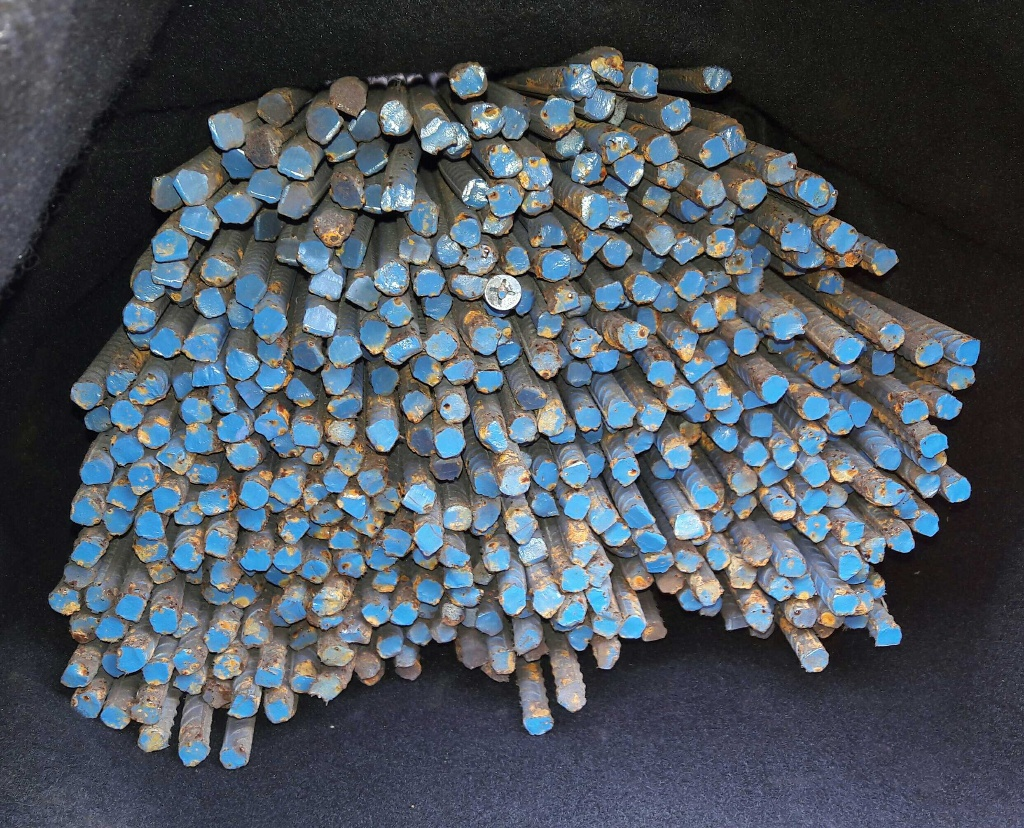dipstick: (421, 117, 458, 155), (314, 212, 353, 247), (307, 105, 341, 145), (329, 79, 365, 115), (180, 205, 217, 240), (209, 113, 244, 149), (469, 103, 505, 138), (450, 63, 487, 97), (174, 169, 208, 205), (245, 128, 276, 167), (254, 309, 288, 344), (279, 146, 313, 180), (248, 168, 282, 202), (346, 276, 380, 310), (151, 230, 188, 261), (386, 335, 423, 366), (258, 93, 292, 126), (234, 275, 267, 309), (303, 305, 336, 339), (374, 262, 408, 295), (519, 156, 552, 190), (327, 335, 362, 367), (309, 269, 342, 302), (278, 185, 312, 217), (541, 98, 575, 130), (489, 144, 523, 176), (381, 101, 412, 135), (330, 178, 364, 209), (572, 152, 606, 183), (603, 132, 637, 163), (200, 258, 237, 286), (211, 560, 243, 592), (584, 88, 616, 120), (298, 240, 329, 273), (489, 185, 522, 216), (646, 134, 679, 165), (565, 65, 596, 98), (462, 245, 496, 275), (360, 319, 389, 354), (255, 360, 287, 391), (151, 176, 181, 209), (109, 400, 142, 430), (614, 153, 644, 186), (591, 56, 624, 86), (130, 376, 164, 405), (581, 194, 610, 228), (109, 435, 144, 463), (183, 335, 219, 362), (366, 420, 397, 451), (533, 587, 564, 618), (697, 174, 727, 206), (767, 153, 797, 185), (827, 222, 857, 254), (404, 485, 437, 514), (410, 202, 439, 235), (217, 195, 251, 223), (77, 458, 113, 484), (400, 235, 431, 265), (699, 137, 730, 167), (221, 150, 253, 179), (134, 269, 163, 301), (226, 351, 258, 380), (415, 524, 444, 556), (349, 111, 381, 140), (508, 512, 537, 544), (662, 98, 691, 130), (137, 421, 170, 449), (382, 184, 415, 212), (671, 236, 704, 264), (312, 588, 346, 615), (198, 488, 233, 514), (149, 328, 179, 358), (293, 340, 323, 370), (413, 356, 443, 386), (569, 327, 599, 357), (870, 480, 906, 505), (194, 288, 225, 317), (403, 391, 432, 422), (426, 332, 457, 361), (254, 209, 282, 241), (123, 302, 155, 330), (217, 414, 249, 442), (70, 540, 102, 568), (501, 107, 529, 139), (320, 366, 353, 393), (226, 443, 260, 469), (452, 274, 487, 299), (287, 376, 316, 406), (184, 422, 214, 451), (440, 394, 470, 423), (500, 465, 530, 494), (707, 228, 736, 258), (781, 223, 811, 252), (71, 498, 102, 526), (435, 429, 466, 457), (522, 186, 553, 214), (630, 65, 658, 96), (380, 299, 412, 326), (773, 312, 805, 339), (152, 263, 186, 288), (595, 281, 624, 310), (676, 271, 705, 300), (737, 179, 766, 208), (128, 465, 156, 495), (408, 427, 436, 457), (423, 293, 453, 321), (447, 123, 471, 158), (531, 351, 561, 379), (472, 502, 500, 532), (518, 538, 548, 566), (648, 225, 676, 255), (355, 147, 386, 174), (339, 620, 373, 644), (335, 446, 363, 475), (370, 366, 398, 395), (239, 480, 268, 508), (337, 490, 365, 519), (541, 251, 569, 280), (631, 275, 660, 303), (642, 186, 670, 215), (136, 512, 166, 539), (691, 302, 718, 332), (339, 236, 365, 267), (234, 381, 265, 407), (64, 563, 95, 589), (72, 692, 103, 718), (180, 740, 211, 766), (414, 270, 445, 296), (192, 363, 227, 386), (134, 538, 167, 562), (152, 484, 180, 512), (273, 476, 301, 504), (618, 322, 646, 350), (172, 544, 201, 571), (205, 530, 234, 557), (115, 595, 144, 622), (151, 607, 180, 634), (382, 530, 411, 557), (799, 178, 828, 205), (811, 361, 840, 388), (256, 413, 286, 439), (683, 358, 713, 384), (437, 236, 462, 267), (367, 546, 399, 570), (328, 395, 360, 419), (548, 290, 580, 314), (104, 507, 132, 534), (581, 234, 609, 261), (612, 458, 639, 486), (761, 376, 789, 403), (800, 429, 828, 456), (69, 617, 98, 643), (203, 682, 232, 708), (450, 219, 479, 245), (499, 585, 525, 614), (834, 338, 863, 364), (181, 398, 211, 423), (280, 518, 310, 543), (301, 485, 331, 510), (483, 422, 508, 452), (49, 590, 80, 614), (70, 384, 102, 407), (532, 225, 567, 246), (587, 560, 614, 587), (604, 239, 631, 266), (878, 324, 905, 351), (801, 488, 828, 515), (274, 547, 302, 573), (213, 653, 241, 679), (556, 130, 584, 156), (694, 579, 722, 605), (675, 513, 703, 539), (737, 266, 763, 294), (872, 248, 898, 276), (803, 515, 831, 541), (443, 506, 472, 531), (589, 509, 618, 534), (534, 461, 559, 490), (654, 282, 679, 311), (721, 126, 746, 155), (759, 461, 788, 486), (227, 298, 251, 328), (174, 500, 204, 524), (240, 549, 271, 572), (675, 330, 698, 361), (209, 386, 236, 412), (355, 652, 381, 679), (564, 494, 590, 521), (712, 425, 738, 452), (658, 162, 685, 188), (358, 470, 386, 495), (561, 462, 589, 487), (641, 403, 666, 431), (667, 387, 695, 412), (743, 540, 771, 565), (920, 433, 948, 458), (276, 238, 300, 267), (106, 370, 135, 394), (237, 507, 266, 531), (96, 618, 125, 642), (117, 648, 146, 672), (63, 664, 92, 688), (336, 554, 365, 578), (362, 602, 391, 626), (606, 197, 630, 226), (702, 66, 731, 90), (440, 544, 470, 567), (592, 615, 622, 638), (625, 506, 655, 529), (539, 409, 565, 435), (575, 406, 601, 432), (608, 401, 634, 427), (293, 422, 320, 447), (86, 587, 113, 612), (417, 580, 444, 605), (463, 179, 488, 206), (472, 328, 497, 355), (647, 361, 674, 386), (725, 249, 752, 274), (798, 242, 825, 267), (803, 462, 830, 487), (363, 185, 387, 213), (557, 601, 585, 625), (947, 365, 975, 389), (445, 361, 474, 384), (517, 387, 547, 409), (777, 555, 807, 577), (266, 697, 291, 723), (474, 472, 500, 497), (476, 611, 502, 636), (562, 566, 588, 591), (538, 311, 563, 337), (732, 494, 758, 519), (827, 410, 853, 435), (916, 340, 942, 365), (626, 428, 653, 452), (712, 292, 736, 319), (773, 442, 797, 469), (85, 407, 113, 430), (143, 661, 171, 684), (229, 695, 257, 718), (322, 646, 354, 666), (220, 746, 249, 768), (474, 371, 503, 393), (590, 350, 619, 372), (432, 459, 462, 480), (510, 417, 535, 442), (710, 199, 735, 224), (377, 634, 403, 658), (514, 630, 540, 654), (568, 625, 592, 651), (595, 642, 619, 668), (585, 588, 609, 614), (734, 329, 758, 355), (915, 511, 939, 537), (936, 395, 962, 419), (328, 421, 355, 444), (279, 600, 306, 623), (243, 625, 270, 648), (303, 561, 330, 584), (571, 542, 598, 565), (605, 522, 632, 545), (704, 386, 731, 409), (705, 270, 732, 293), (803, 396, 830, 419), (801, 649, 828, 672), (888, 530, 915, 553), (901, 399, 928, 422), (675, 550, 703, 572), (556, 690, 585, 711), (531, 494, 560, 515), (636, 531, 665, 552), (644, 552, 673, 573), (175, 651, 200, 675), (206, 629, 231, 653), (323, 468, 347, 493), (375, 488, 399, 513), (444, 568, 474, 588), (705, 340, 729, 365), (315, 676, 341, 699), (392, 602, 418, 625), (506, 248, 529, 274), (483, 548, 509, 571), (770, 497, 796, 520), (839, 555, 862, 581), (103, 706, 130, 728), (850, 401, 872, 428), (131, 705, 160, 725), (139, 731, 168, 751), (917, 451, 946, 471), (567, 362, 591, 386), (716, 398, 740, 422), (441, 603, 466, 626), (496, 342, 521, 365), (692, 486, 717, 509), (666, 446, 691, 469), (744, 441, 767, 466), (871, 350, 894, 375), (956, 340, 979, 365), (915, 474, 940, 497), (731, 472, 757, 494), (681, 199, 707, 221), (187, 465, 217, 484), (523, 716, 553, 735), (816, 273, 843, 294), (620, 615, 644, 638), (731, 565, 755, 588), (792, 575, 815, 599), (840, 521, 863, 545), (946, 478, 970, 501), (550, 421, 575, 443), (658, 572, 684, 593), (746, 609, 772, 630), (863, 537, 884, 563), (255, 668, 282, 688), (329, 531, 359, 549), (232, 584, 255, 607), (769, 578, 792, 601), (679, 420, 701, 444), (750, 413, 772, 437), (832, 459, 856, 481), (877, 447, 901, 469), (432, 621, 457, 642), (491, 652, 516, 673), (832, 593, 857, 614), (483, 216, 512, 234), (373, 572, 399, 592), (409, 624, 432, 646), (707, 548, 730, 570), (628, 570, 653, 590), (680, 589, 703, 610), (739, 224, 760, 247), (864, 575, 885, 598), (876, 627, 901, 646), (711, 509, 732, 531), (585, 454, 604, 478), (793, 608, 817, 627), (291, 675, 316, 693), (642, 623, 667, 641), (652, 459, 675, 478)
